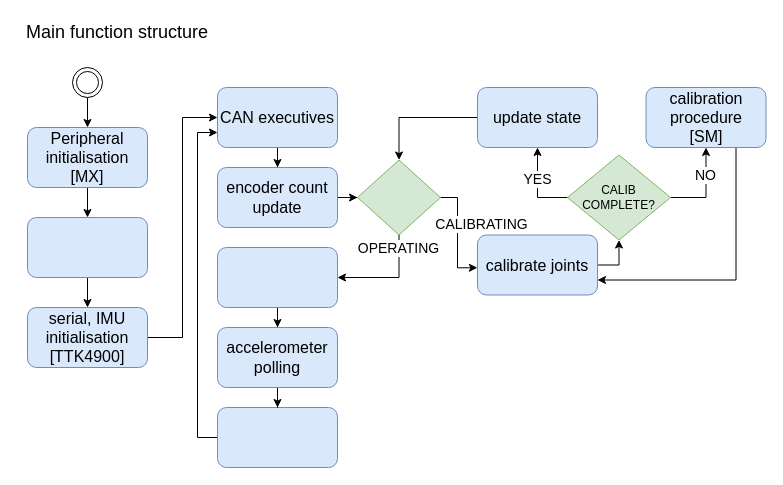
Some shapes in this 783 by 485 pixel diagram are drawn without their labels. Each missing label, with the centre of its shape:
ADC current draw update: the point at 277,437
GLOBAL STATE?: the point at 398,197
Peripheral functions start [HAL]: the point at 87,247
update controller: the point at 277,277
